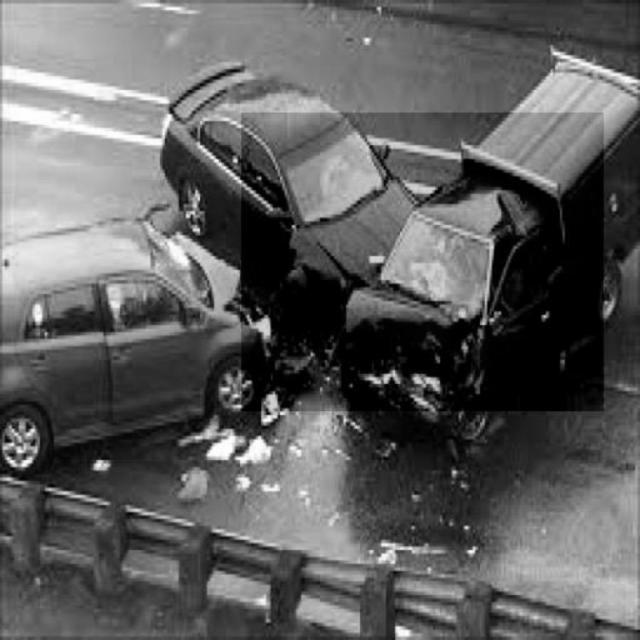accident: (10, 99, 308, 461), (242, 112, 604, 410)
